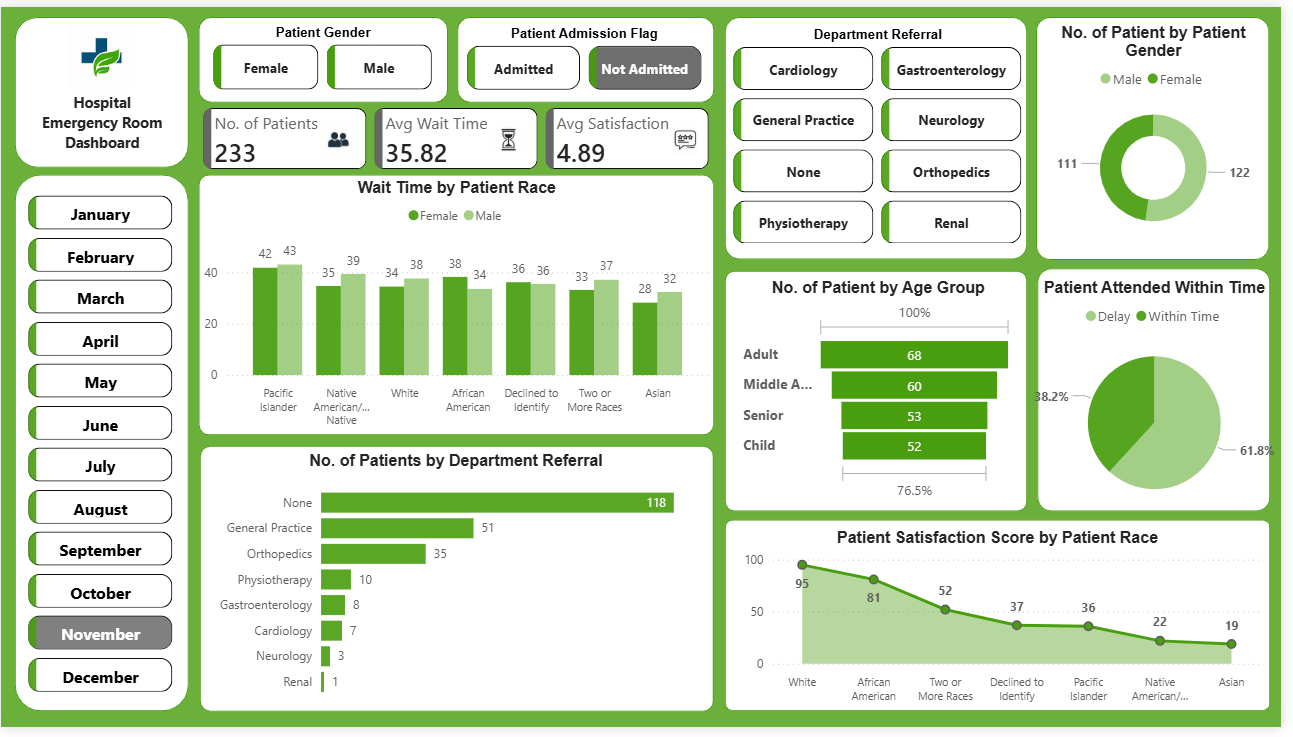

Layout of this report page (visuals, bound fields, positions):
{"tool":"powerbi","page":{"name":"Page 1","canvas":[1280,720],"ordinal":0},"visuals":[{"type":"shape","box":[197.8,10.1,249.5,85.7],"z":0},{"type":"shape","box":[14.3,10.4,174,150.6],"z":1000},{"type":"shape","box":[197.8,167.6,515.4,260.8],"z":2000},{"type":"shape","box":[1035.6,9.8,233.1,242.9],"z":3000},{"type":"shape","box":[13.9,167.6,173.9,536.8],"z":4000},{"type":"image","box":[32.5,18.2,136.4,63.6],"z":5000},{"type":"textbox","box":[31.9,79.8,137.4,81],"z":6000},{"type":"advancedSlicerVisual","fields":{"Values":["Hospital Emergency Room Data.Patient Gender"]},"box":[207.9,17.6,229.3,70.6],"z":7000},{"type":"shape","box":[197.8,95.8,525.5,75.6],"z":8000},{"type":"shape","box":[723.3,263.4,302.4,240.7],"z":9000},{"type":"advancedSlicerVisual","fields":{"Values":["Calendar_Tabel.Date.Variation.Date Hierarchy.Month"]},"box":[22.7,184,155,510.3],"z":10000},{"type":"donutChart","title":"No. of Patient by Patient Gender","fields":{"Category":["Hospital Emergency Room Data.Patient Gender"],"Y":["Hospital Emergency Room Data.Total Patients"]},"box":[1051.5,16,202.5,224.5],"z":11000},{"type":"funnel","title":"No. of Patient by Age Group","fields":{"Y":["CountNonNull(Hospital Emergency Room Data.Patient Admission Flag)"],"Category":["Hospital Emergency Room Data.Age Group"]},"box":[737.2,270.9,279.7,226.8],"z":12000},{"type":"shape","box":[456.2,10.1,257.1,85.7],"z":13000},{"type":"shape","box":[723.8,10,302.5,242.5],"z":14000},{"type":"advancedSlicerVisual","fields":{"Values":["Hospital Emergency Room Data.Department Referral"]},"box":[726.4,23.3,298.2,222.1],"z":15000},{"type":"advancedSlicerVisual","fields":{"Values":["Hospital Emergency Room Data.Patient Admission Flag"]},"box":[461.2,18.9,244.5,69.3],"z":16000},{"type":"cardVisual","fields":{"Data":["Hospital Emergency Room Data.Total Patients","Hospital Emergency Room Data.Avg Wait Time","Hospital Emergency Room Data.Avg Satisfaction"]},"box":[197.8,95.8,515.4,71.8],"z":17000},{"type":"shape","box":[199.1,438.5,514.1,265.9],"z":18000},{"type":"shape","box":[1035.8,260.8,233.1,243.2],"z":19000},{"type":"shape","box":[723.3,512.9,545.6,191.5],"z":20000},{"type":"areaChart","title":"Patient Satisfaction Score by Patient Race","fields":{"Category":["Hospital Emergency Room Data.Patient Race"],"Y":["Sum(Hospital Emergency Room Data.Patient Satisfaction Score)"]},"box":[723.3,521.7,545.6,182.7],"z":21000},{"type":"pieChart","title":" Patient Attended Within  Time","fields":{"Category":["Hospital Emergency Room Data.Patient Attend Time"],"Y":["Hospital Emergency Room Data.Total Patients"]},"box":[1025.7,270.9,254.5,241.9],"z":22000},{"type":"clusteredBarChart","title":"No. of Patients by Department Referral","fields":{"Category":["Hospital Emergency Room Data.Department Referral"],"Y":["Hospital Emergency Room Data.Total Patients"]},"box":[206.7,444.8,497.7,255.8],"z":23000},{"type":"clusteredColumnChart","title":"Wait Time by Patient Race ","fields":{"Y":["Hospital Emergency Room Data.Avg Wait Time"],"Series":["Hospital Emergency Room Data.Patient Gender"],"Category":["Hospital Emergency Room Data.Patient Race"]},"box":[199.1,171.4,514.1,257.1],"z":24000}]}

Visuals, with their boxes in screenshot pixels (x1, y1, x2, y2), scaled from the page's 1280x720 canvas onto the 1293x737 screenshot:
shape: box(200, 10, 452, 98)
shape: box(14, 11, 190, 165)
shape: box(200, 172, 720, 439)
shape: box(1046, 10, 1282, 259)
shape: box(14, 172, 190, 721)
image: box(33, 19, 171, 84)
textbox: box(32, 82, 171, 165)
advancedSlicerVisual - Hospital Emergency Room Data.Patient Gender: box(210, 18, 442, 90)
shape: box(200, 98, 731, 175)
shape: box(731, 270, 1036, 516)
advancedSlicerVisual - Calendar_Tabel.Date.Variation.Date Hierarchy.Month: box(23, 188, 180, 711)
"No. of Patient by Patient Gender" donutChart: box(1062, 16, 1267, 246)
"No. of Patient by Age Group" funnel: box(745, 277, 1027, 509)
shape: box(461, 10, 721, 98)
shape: box(731, 10, 1037, 258)
advancedSlicerVisual - Hospital Emergency Room Data.Department Referral: box(734, 24, 1035, 251)
advancedSlicerVisual - Hospital Emergency Room Data.Patient Admission Flag: box(466, 19, 713, 90)
cardVisual - Hospital Emergency Room Data.Total Patients x Hospital Emergency Room Data.Avg Wait Time: box(200, 98, 720, 172)
shape: box(201, 449, 720, 721)
shape: box(1046, 267, 1282, 516)
shape: box(731, 525, 1282, 721)
"Patient Satisfaction Score by Patient Race" areaChart: box(731, 534, 1282, 721)
" Patient Attended Within  Time" pieChart: box(1036, 277, 1292, 525)
"No. of Patients by Department Referral" clusteredBarChart: box(209, 455, 712, 717)
"Wait Time by Patient Race " clusteredColumnChart: box(201, 175, 720, 439)
